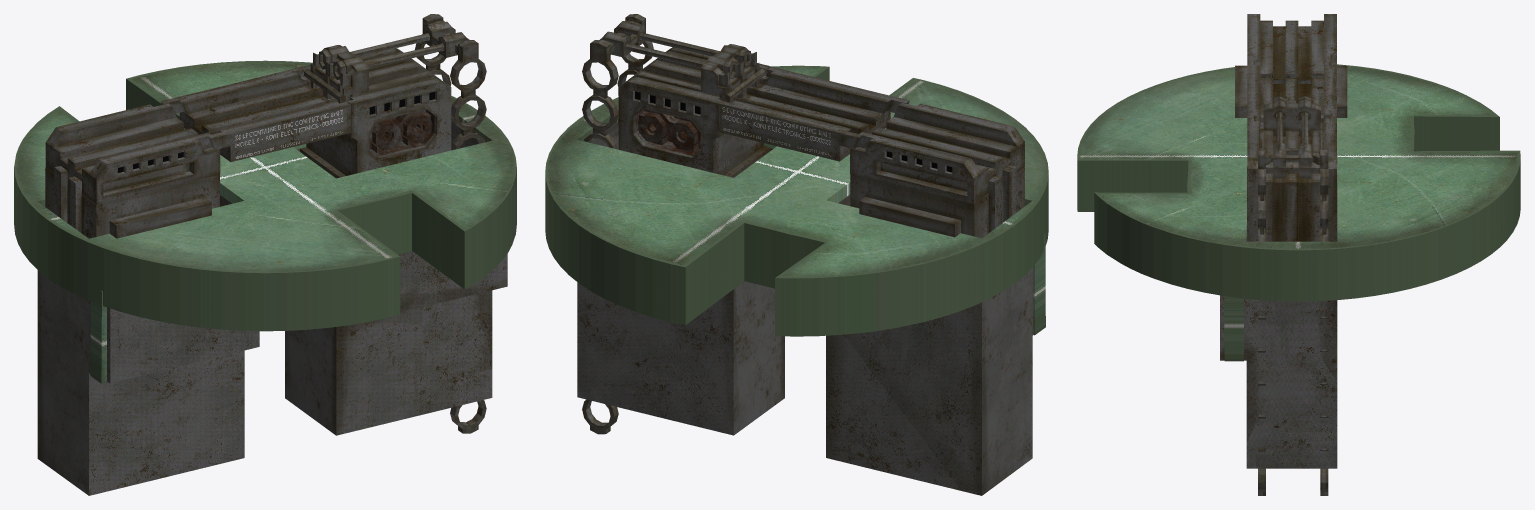
The model's file is table mp_shell sequence machine3.glb.
The picture shows the model from 3 angles, left to right: view 1: azimuth 30°, elevation 25°; view 2: azimuth 150°, elevation 25°; view 3: azimuth 270°, elevation 25°; orthographic projection. The views are drawn at different scales.
Parts seen in each view (by area): view 1: tabletop inner padding_002, section two upper mover plate, section bridge parent, section one parent, section two parent, carrier main parent, horizontal plate2, sequence segment0, carrier poles, shell sequence machine tabletop inner padding, carrier pole grabber, sequence segment1 (+4 smaller); view 2: tabletop inner padding_002, section two upper mover plate, section bridge parent, section one parent, section two parent, carrier main parent, horizontal plate1, carrier poles, sequence segment0, shell sequence machine tabletop inner padding, carrier pole grabber, sequence segment1 (+4 smaller); view 3: tabletop inner padding_002, section one parent, section two upper mover plate, carrier main parent, section bridge parent, shell sequence machine tabletop inner padding, sequence segment0, carrier pole grabber, horizontal plate2, horizontal plate1, sequence segment1, carrier poles.
Boxes of the visible parts, x1,y1,x2,y2 form: tabletop inner padding_002: (14,60,516,495); section two upper mover plate: (45,103,220,204); section bridge parent: (160,67,350,162); section one parent: (300,48,451,178); section two parent: (45,166,219,238); carrier main parent: (313,45,440,102); horizontal plate2: (109,197,211,238); sequence segment0: (415,14,486,91); carrier poles: (319,33,444,79); shell sequence machine tabletop inner padding: (90,290,107,383); carrier pole grabber: (424,21,469,57); sequence segment1: (430,69,486,129); tabletop inner padding_002: (545,65,1048,495); section two upper mover plate: (850,102,1024,203); section bridge parent: (719,66,909,161); section one parent: (618,47,770,177); section two parent: (850,165,1024,238); carrier main parent: (628,44,756,101); horizontal plate1: (859,197,960,237); carrier poles: (625,32,750,79); sequence segment0: (582,14,653,92); shell sequence machine tabletop inner padding: (1033,234,1045,335); carrier pole grabber: (600,21,645,57); sequence segment1: (582,69,638,130); tabletop inner padding_002: (1077,64,1520,468); section one parent: (1247,118,1337,241); section two upper mover plate: (1247,14,1336,83); carrier main parent: (1263,98,1320,178); section bridge parent: (1247,58,1336,129); shell sequence machine tabletop inner padding: (1224,296,1243,361); sequence segment0: (1258,148,1328,194); carrier pole grabber: (1273,142,1311,166); horizontal plate2: (1235,65,1247,117); horizontal plate1: (1337,65,1347,117); sequence segment1: (1258,195,1328,227); carrier poles: (1273,96,1311,142).
Size of the model in its own units: 5.35 by 4.61 by 5.35.
Materials: 7 (6 with a texture image).
